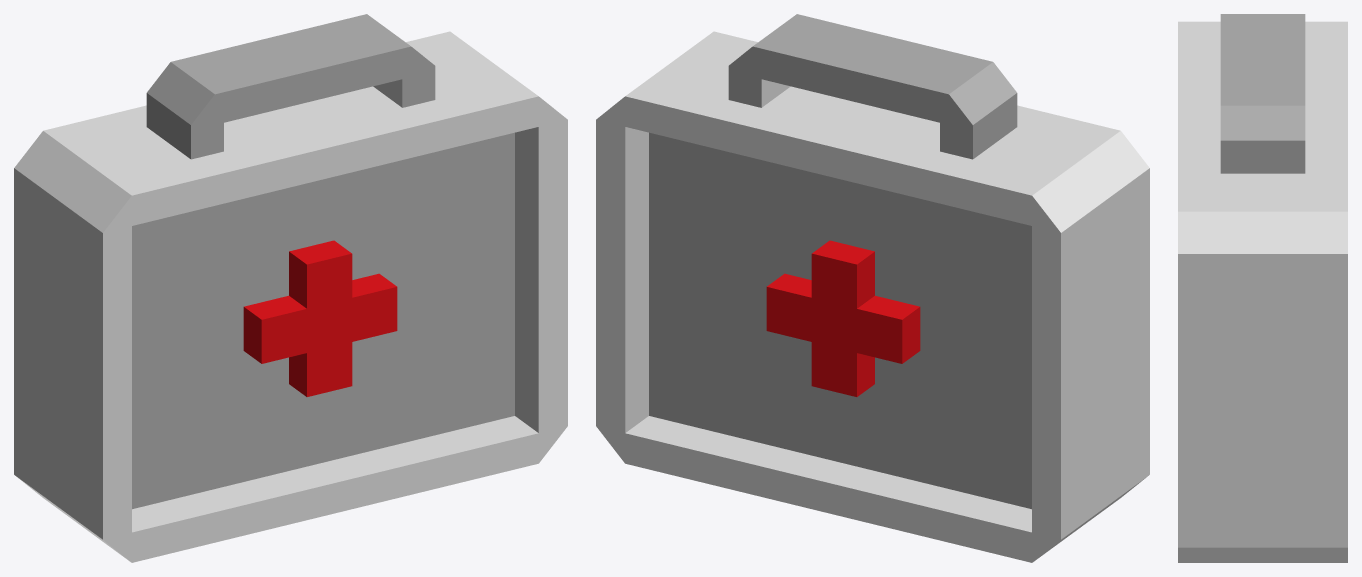
File: HealthPack.fbx
The picture shows the model from 3 angles, left to right: view 1: azimuth 30°, elevation 25°; view 2: azimuth 150°, elevation 25°; view 3: azimuth 270°, elevation 25°; orthographic projection. The views are drawn at different scales.
Visible parts, largest first — view 1: Cube; view 2: Cube; view 3: Cube.
Boxes of the visible parts, x1,y1,x2,y2 form: Cube: [14, 14, 567, 562]; Cube: [596, 14, 1149, 562]; Cube: [1178, 14, 1347, 562].
Bounding box in the file's own units: 265 × 232 × 87.57.
